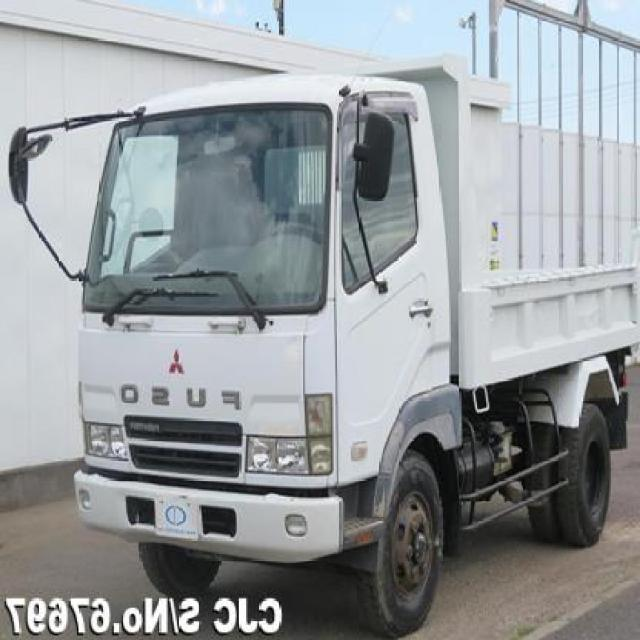truck: (7, 57, 640, 637)
